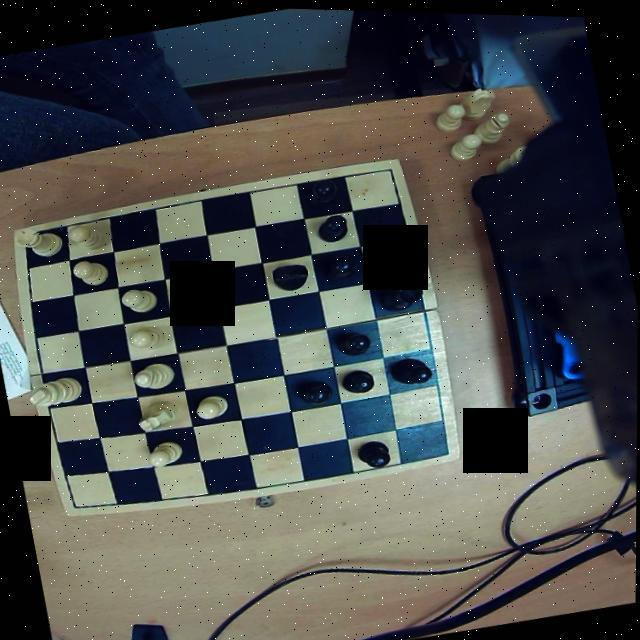chess-table-corners: (429, 435, 458, 461), (378, 157, 404, 183), (13, 224, 43, 246), (62, 492, 86, 514)
